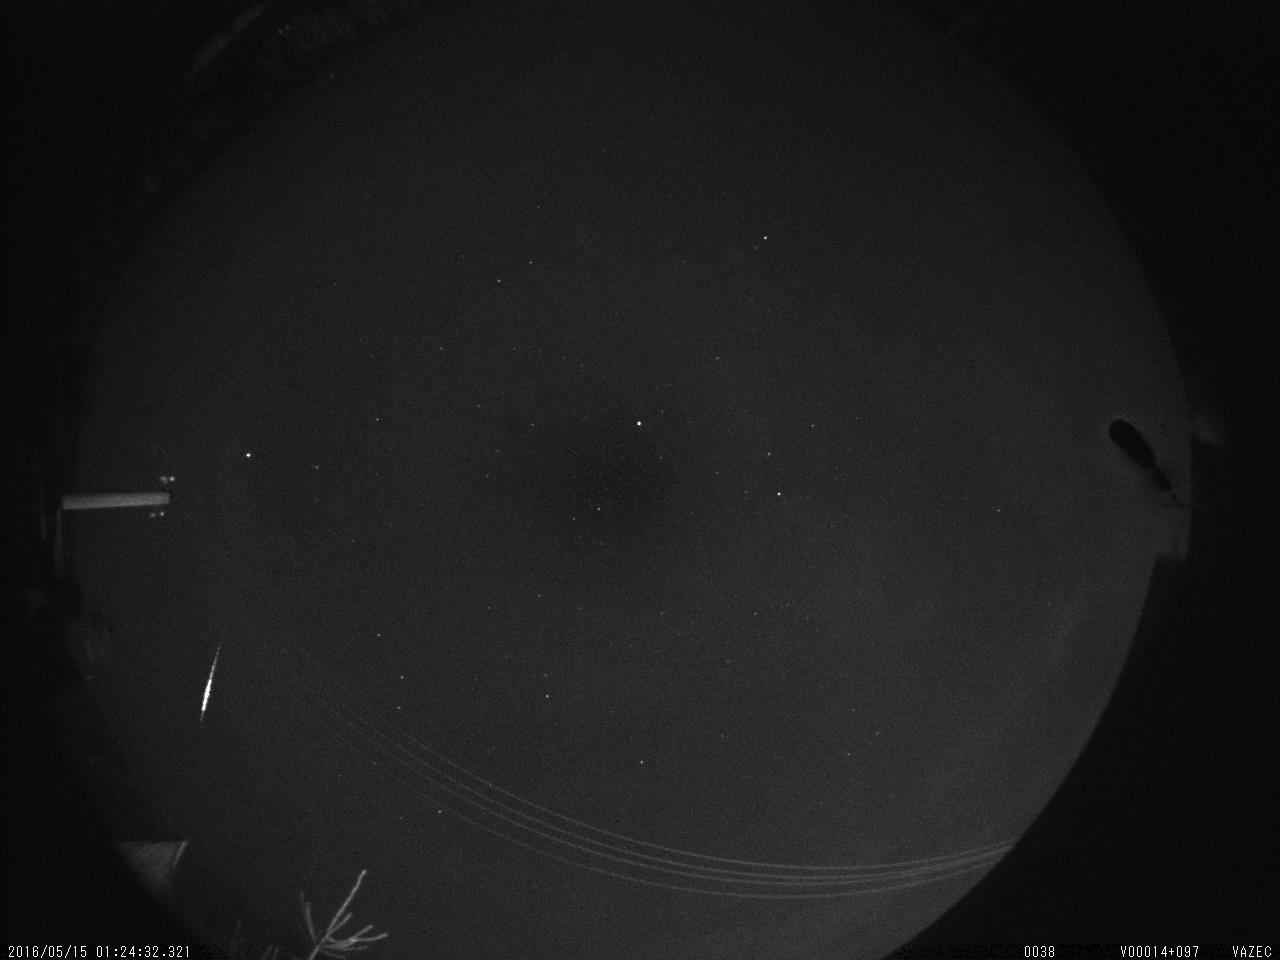meteor: (183, 630, 238, 731)
